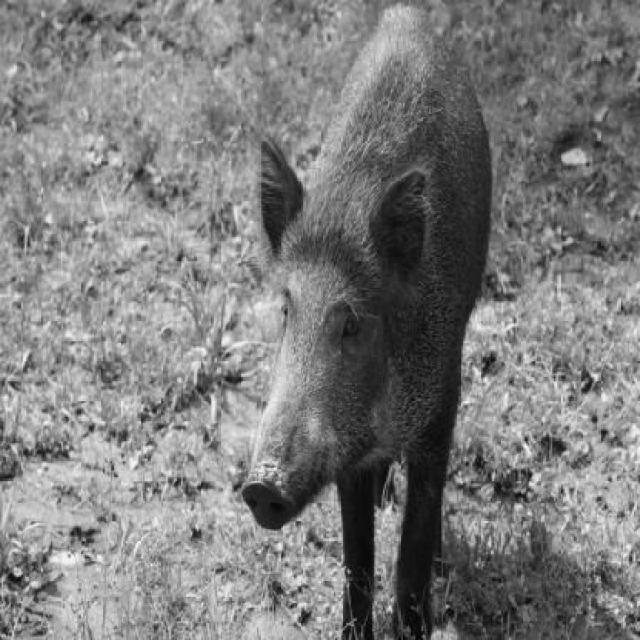Boar: (239, 0, 493, 640)
